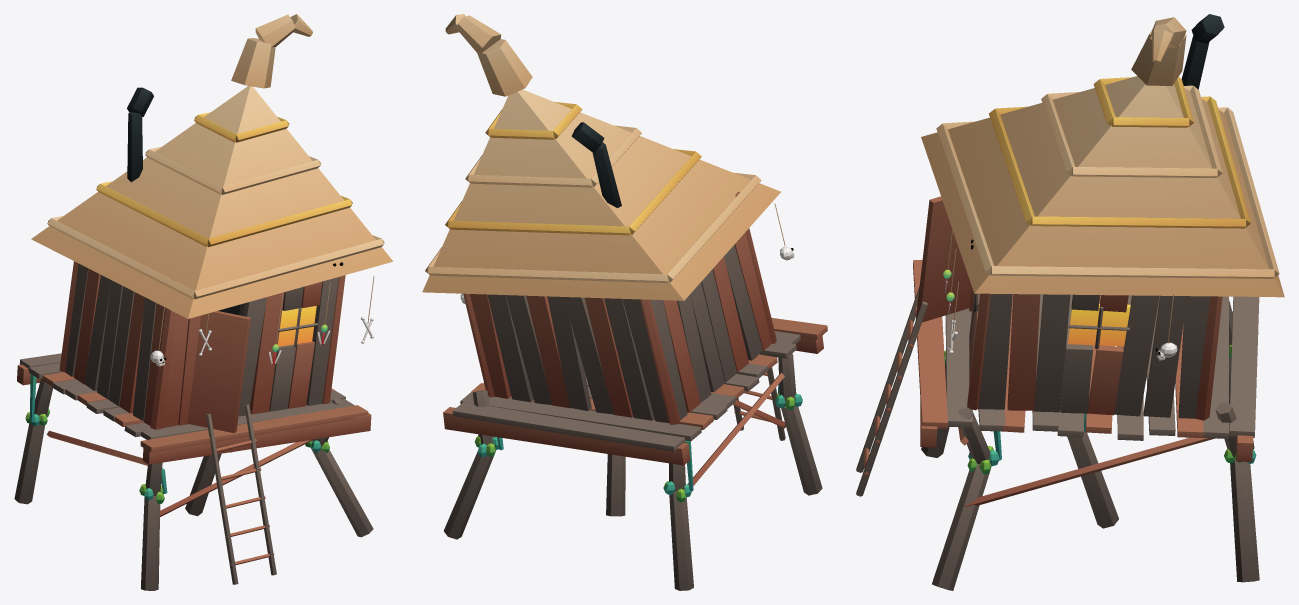
File: witch_hut.glb
The picture shows the model from 3 angles, left to right: view 1: azimuth 30°, elevation 25°; view 2: azimuth 150°, elevation 25°; view 3: azimuth 270°, elevation 25°; orthographic projection. The views are drawn at different scales.
Parts seen in each view (by area): view 1: witch_hut; view 2: witch_hut; view 3: witch_hut.
Boxes of the visible parts, left/top/right/bottom form: witch_hut: left=14, top=14, right=392, bottom=590; witch_hut: left=422, top=14, right=827, bottom=590; witch_hut: left=856, top=14, right=1284, bottom=590.
Size of the model in its own units: 4.5 by 7.22 by 4.88.
3 materials, 3 textured.
